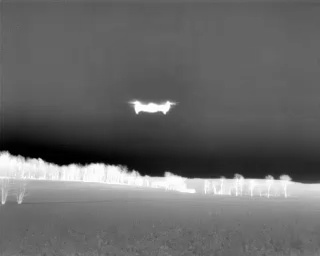DRONE: (124, 95, 180, 121)
